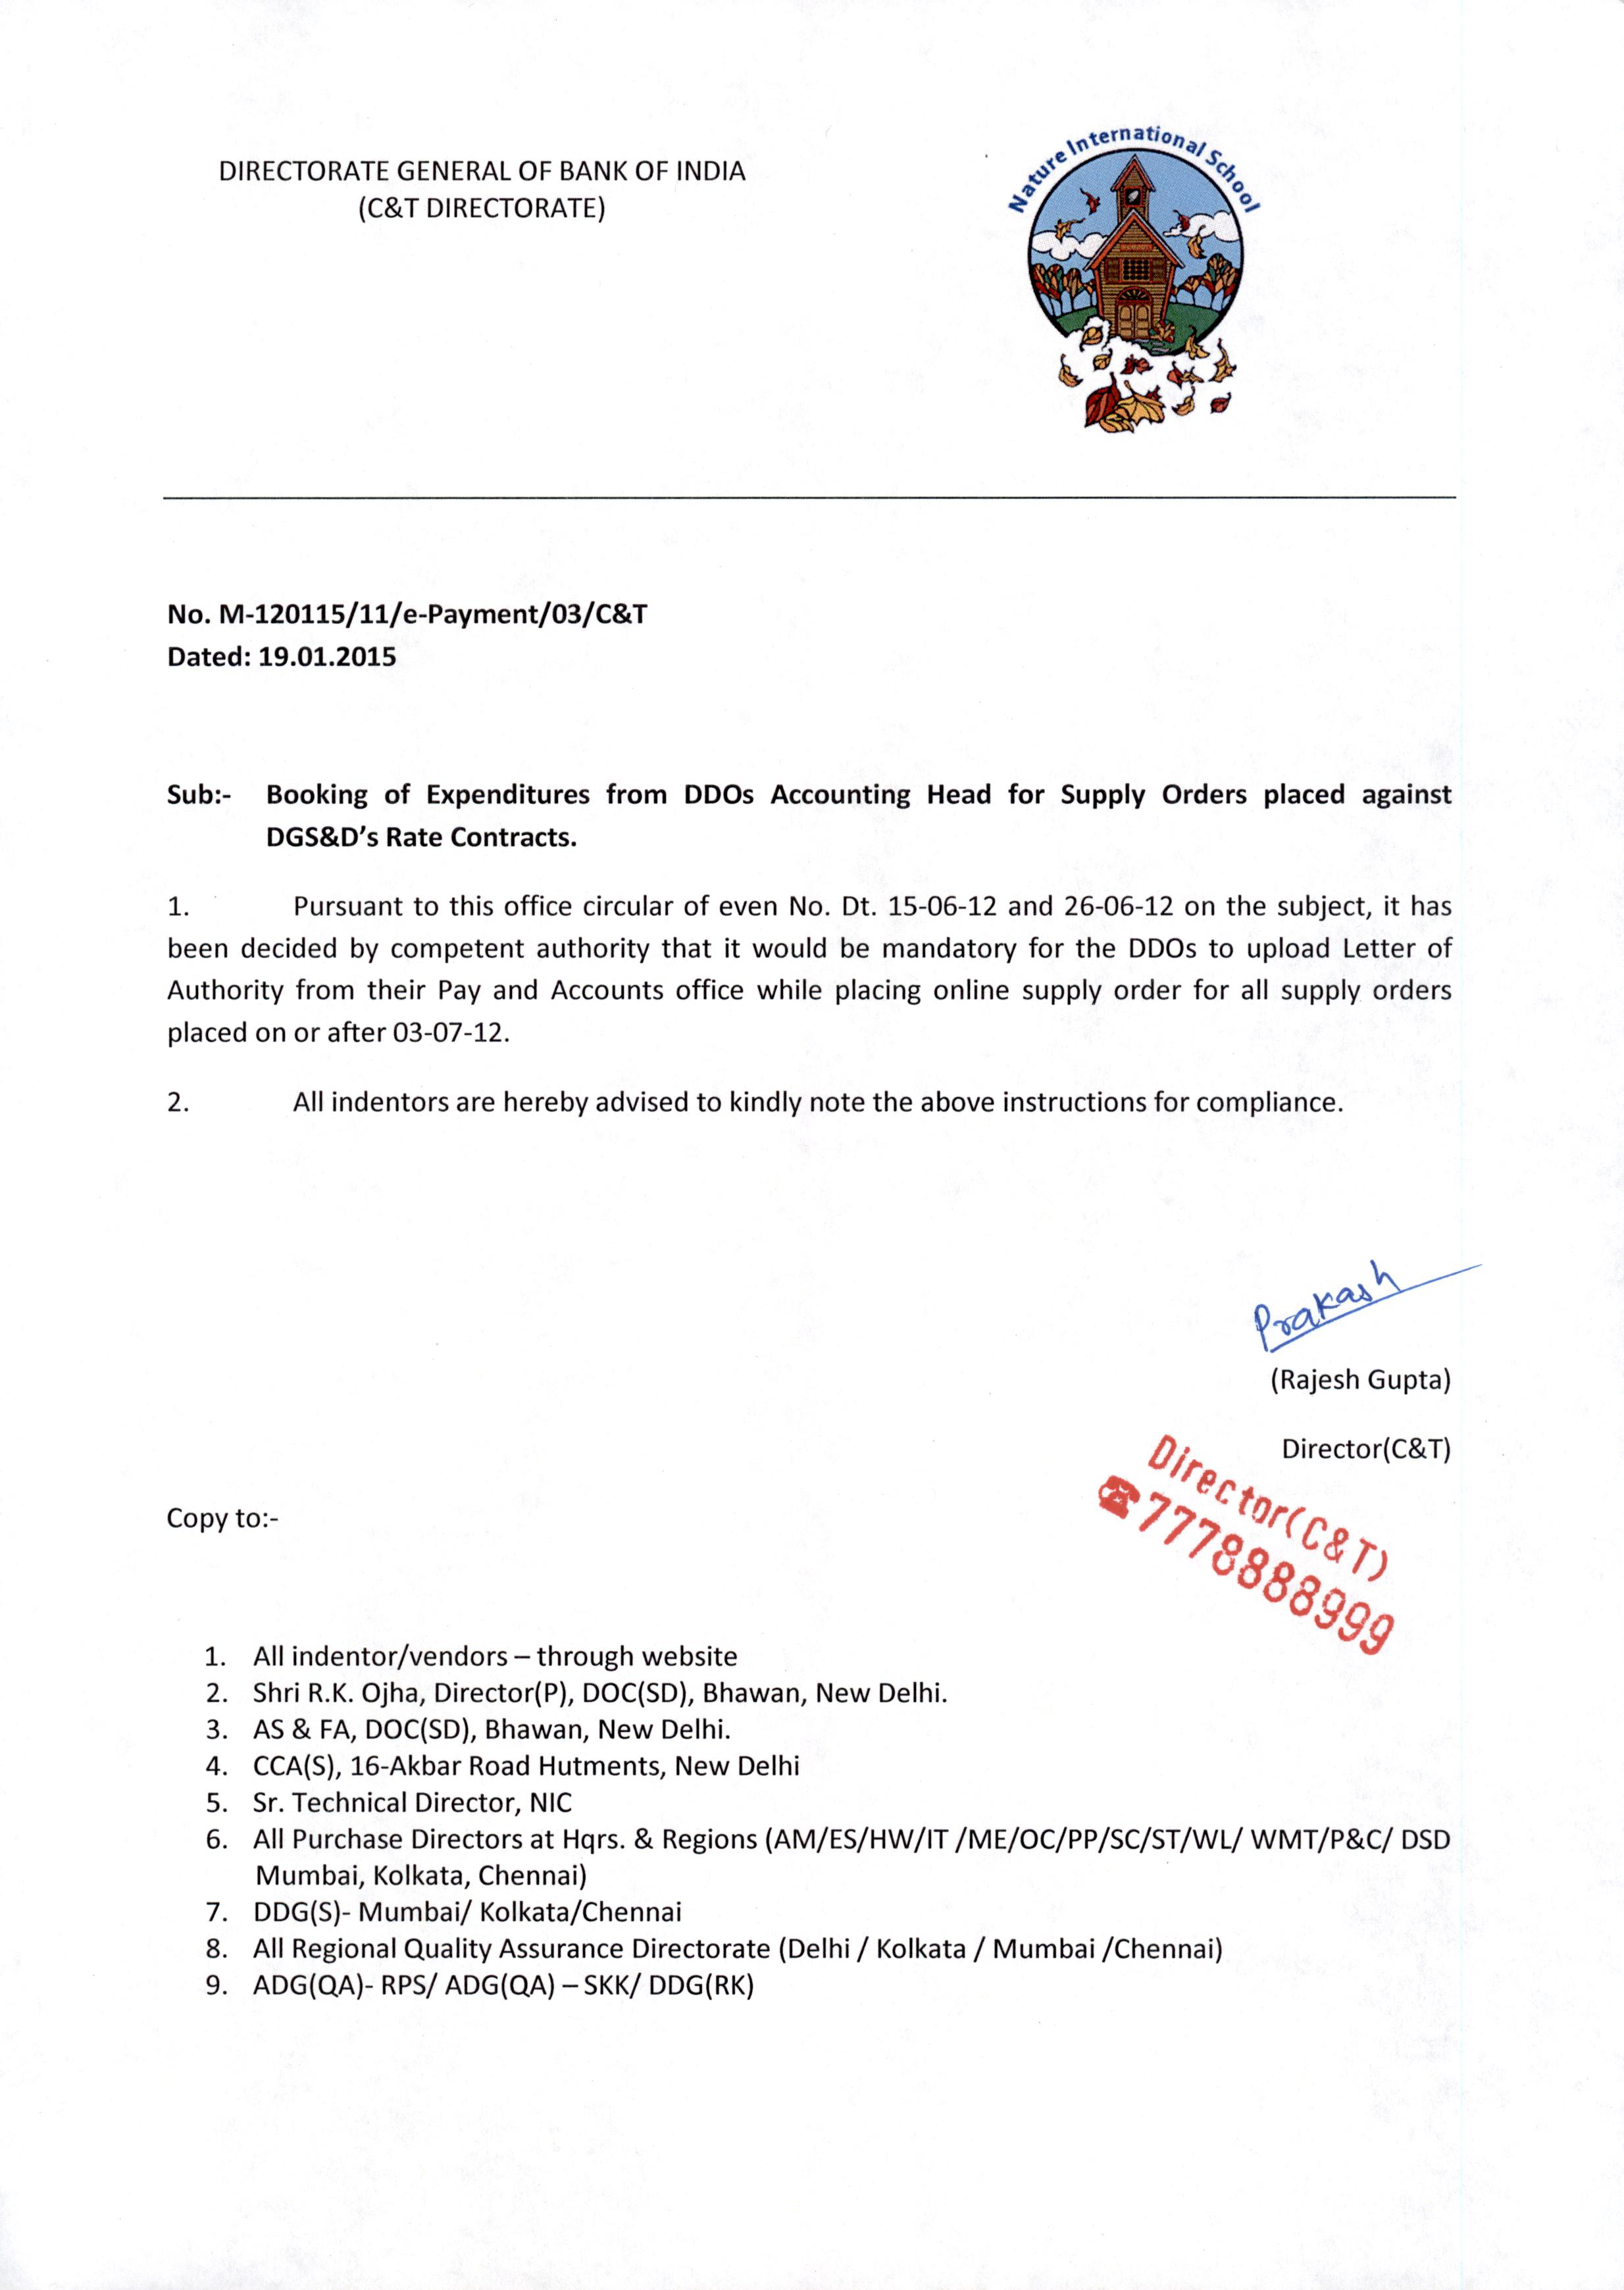Signature: (1243, 1250, 1431, 1359)
